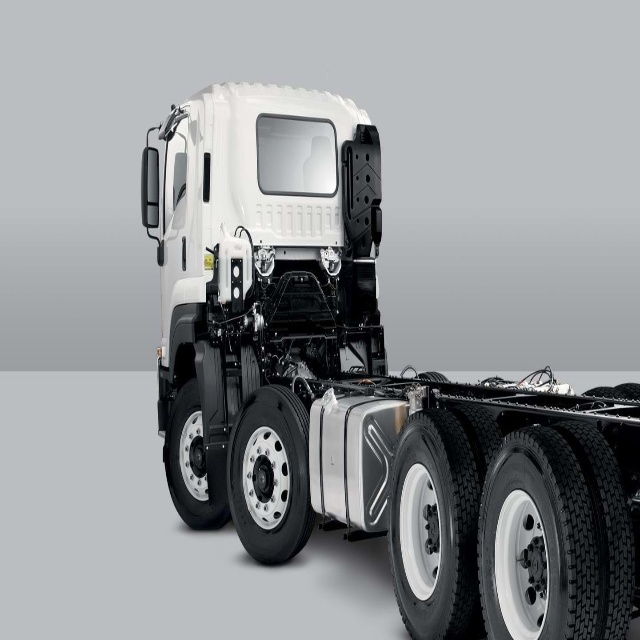Truck: (141, 82, 640, 640)
